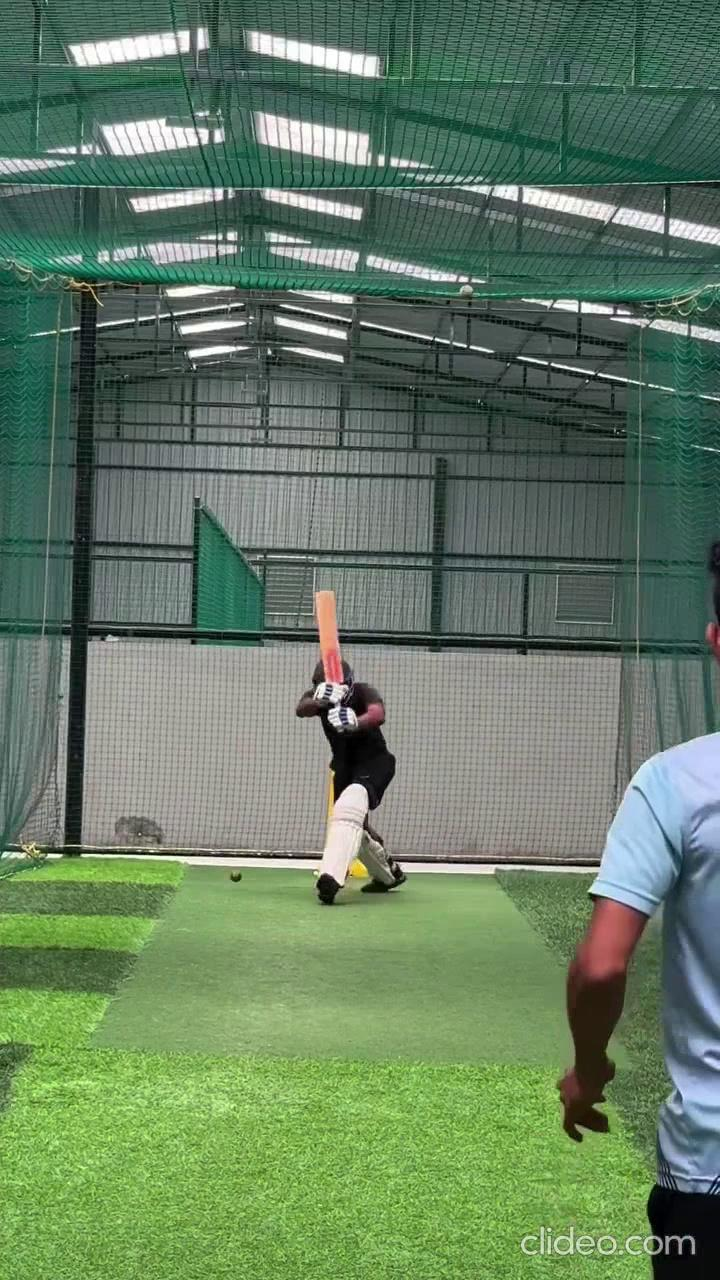bat: (313, 588, 346, 683)
